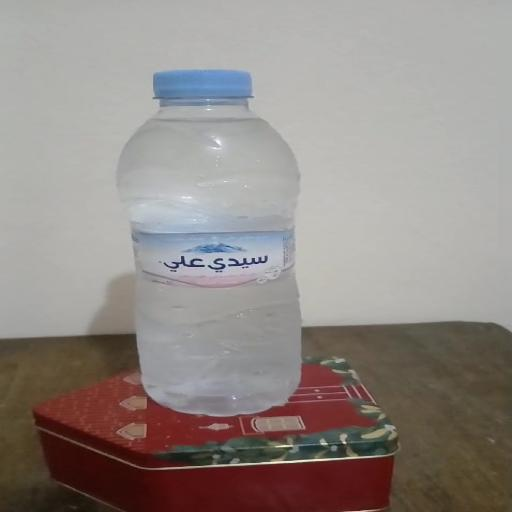bouteille conformite: (91, 66, 352, 416)
